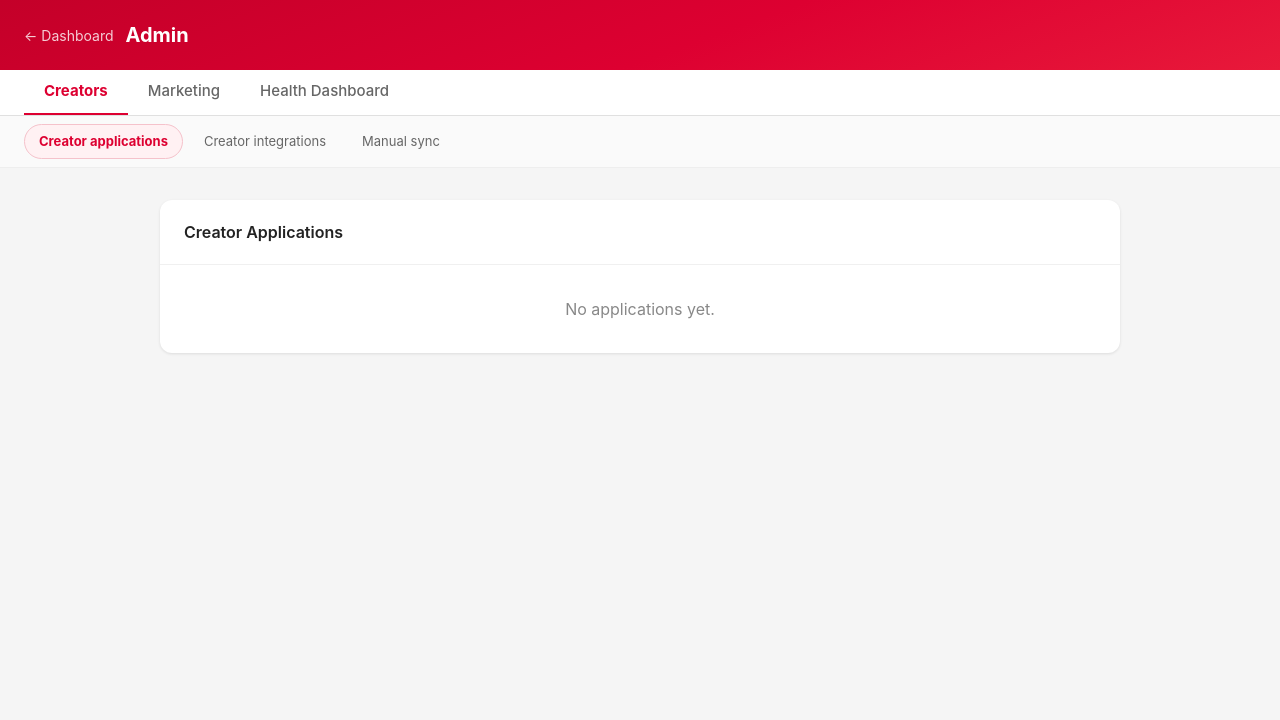
Test case: admin Sources tab — poll health › distinguishes a failure or two from a source nobody has looked at
Click the button "Creator integrations". click: (265, 141)
box: [189,124,341,159]
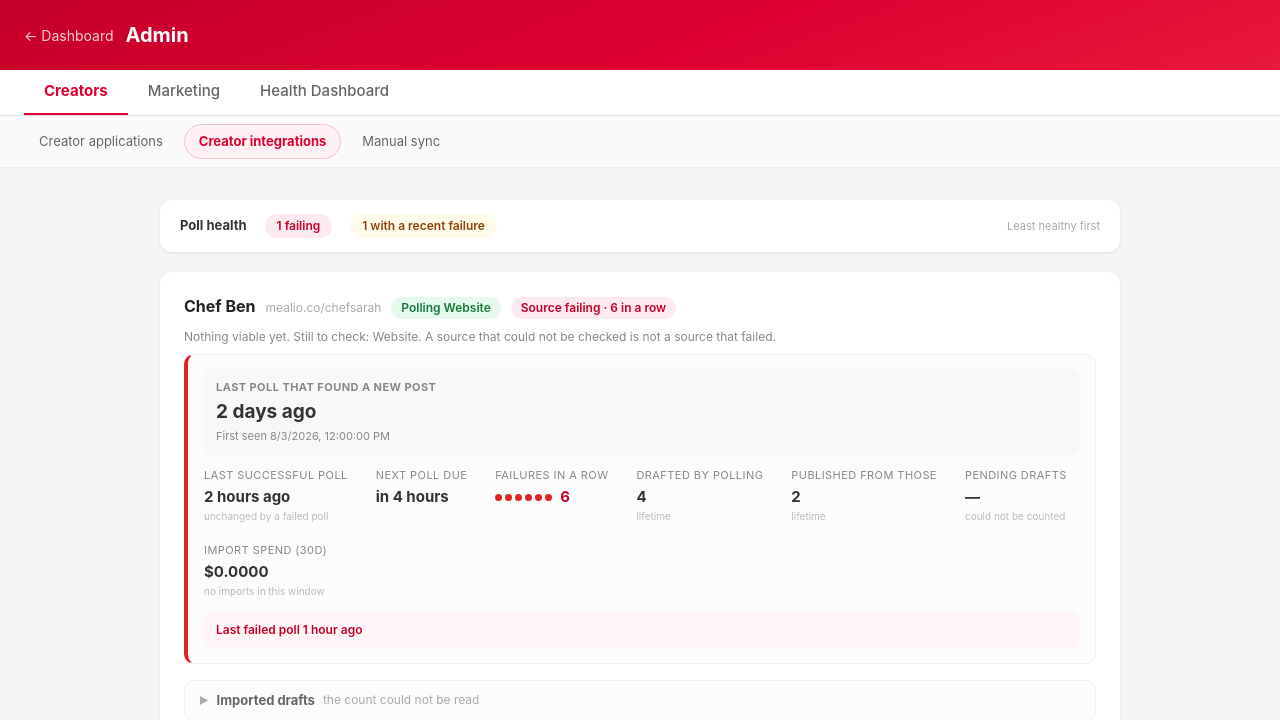
Now the element with test id "poll-health-summary" is shown, box [160,200,1120,252]
Now the text with test id "poll-status-c2" shows "6 in a row", box [521,300,666,315]
